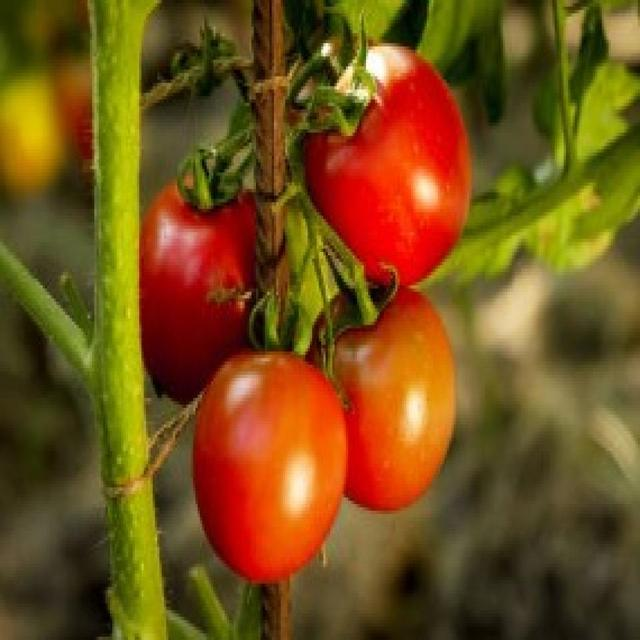Healthy Fruit: (88, 108, 269, 302)
